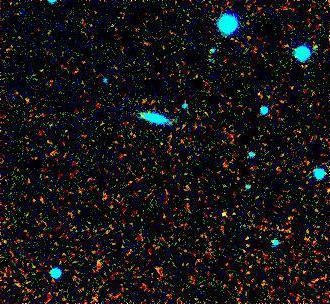star: (210, 198, 240, 228)
